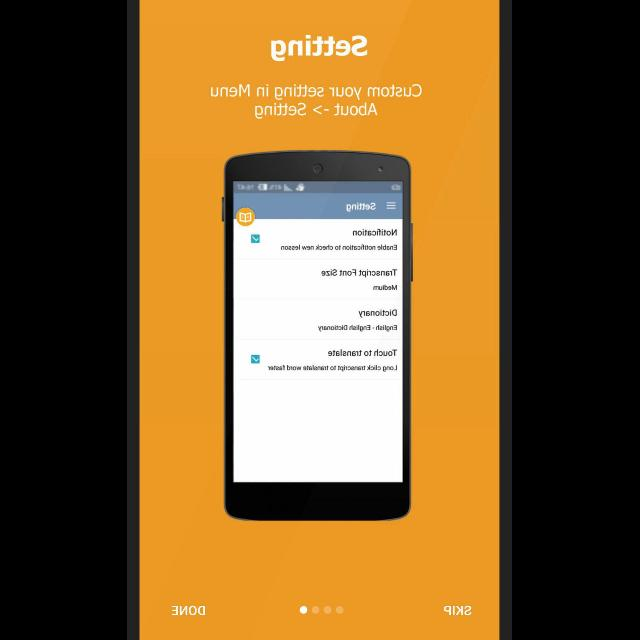image: (222, 150, 414, 522)
pageindicator: (299, 606, 345, 614)
text: (211, 84, 423, 120), (271, 36, 369, 62), (443, 604, 472, 616), (172, 606, 206, 616)
